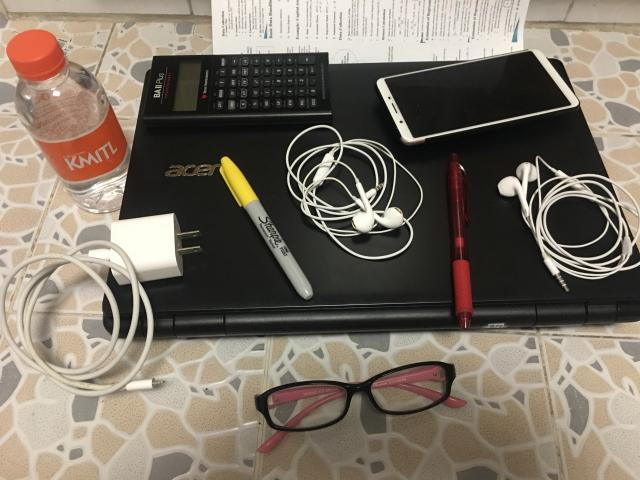Glasses: (255, 361, 466, 452)
Mobile phone: (376, 50, 579, 145)
Pen: (220, 156, 312, 300), (448, 154, 474, 330)
bottle: (6, 30, 130, 212)
paper: (211, 0, 529, 66)
wire: (0, 214, 201, 396), (498, 156, 640, 291), (285, 125, 424, 260)
